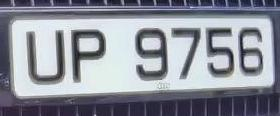5: (202, 22, 237, 84)
6: (236, 22, 268, 84)
7: (169, 22, 204, 86)
9: (130, 23, 174, 86)
P: (66, 22, 111, 87)
U: (21, 24, 70, 92)
